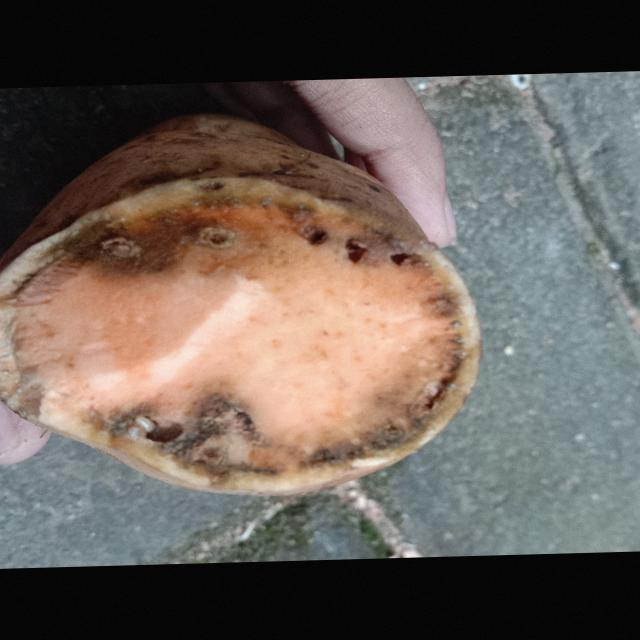Sick Sweet Potato_Tuber Rot: (2, 179, 480, 495)
